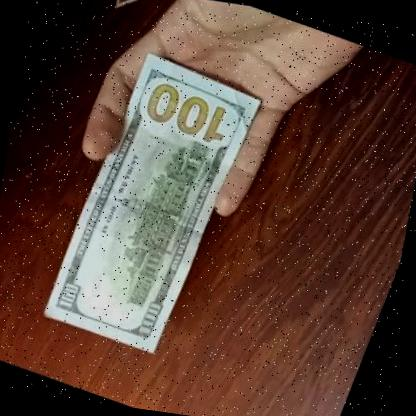one_hundred-back: (34, 35, 274, 370)
